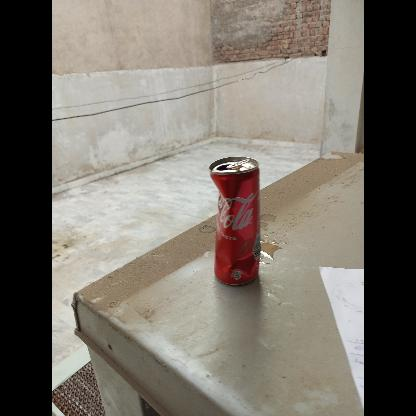Dent_Can: (212, 175, 260, 276), (252, 233, 261, 261)
Lid_Open: (216, 156, 250, 173)
Tin_Can: (204, 156, 266, 288)
